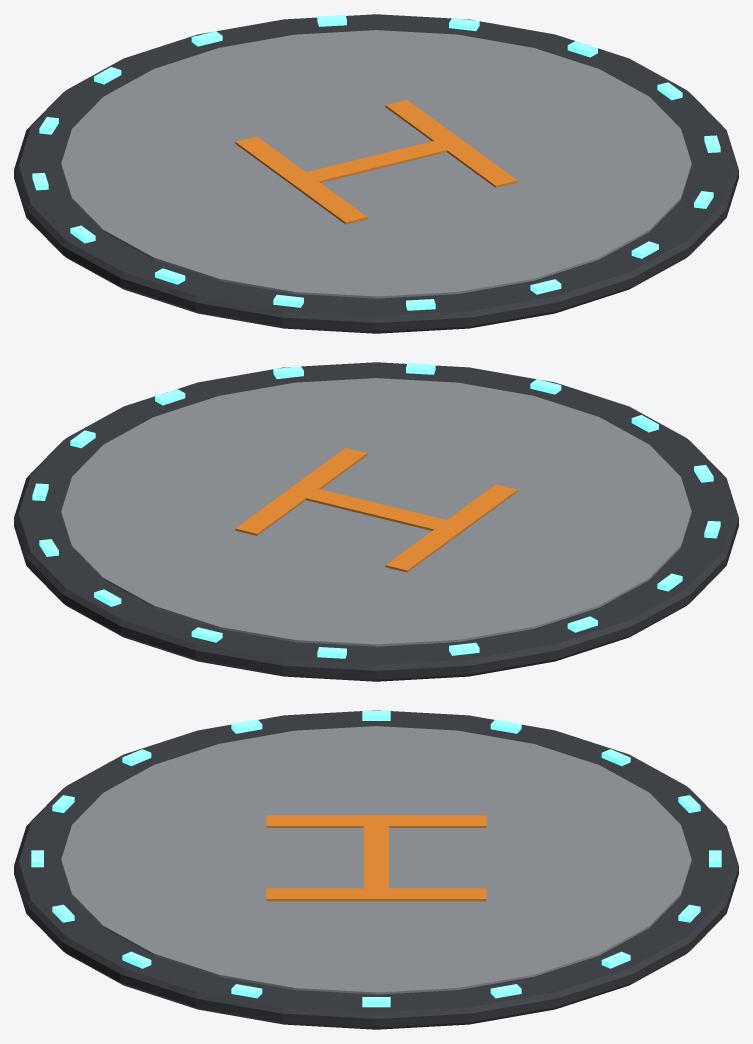
The model's file is landing_pad.glb.
The picture shows the model from 3 angles, top to bottom: view 1: azimuth 30°, elevation 25°; view 2: azimuth 150°, elevation 25°; view 3: azimuth 270°, elevation 25°; orthographic projection.
Parts seen in each view (by area): view 1: landing_pad; view 2: landing_pad; view 3: landing_pad.
Boxes of the visible parts, <box> form: landing_pad: <box>14,14,738,333</box>; landing_pad: <box>14,362,738,681</box>; landing_pad: <box>14,710,738,1029</box>.
Size of the model in its own units: 4.6 by 0.155 by 4.6.
